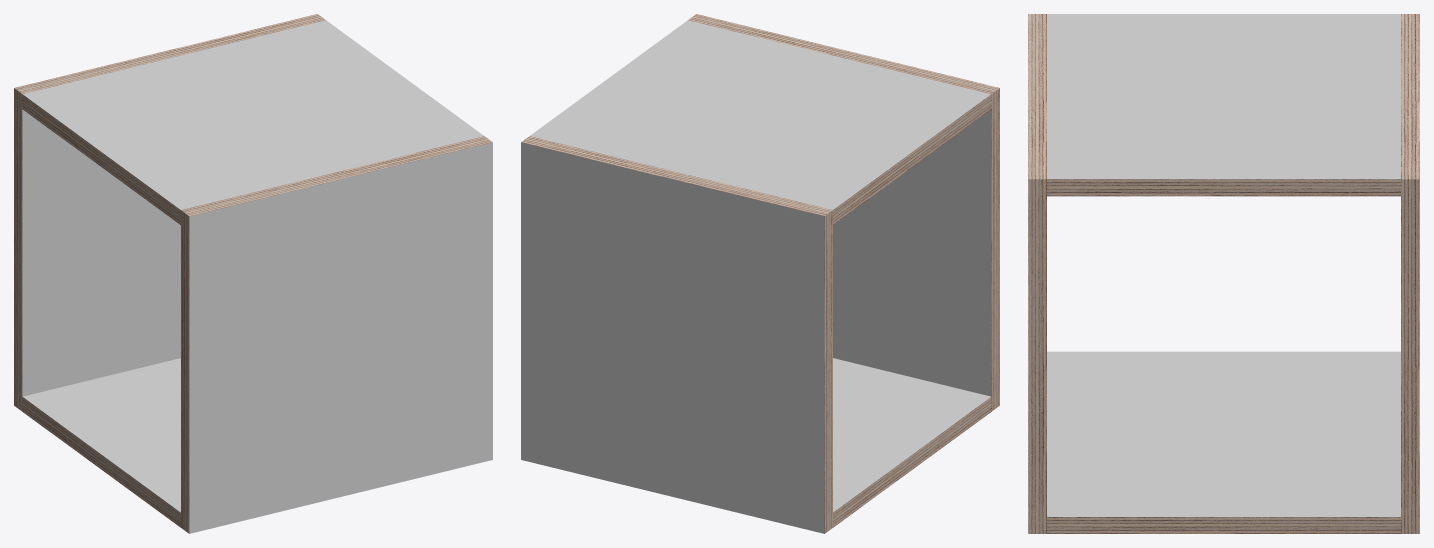
File: Open Shelf.fbx
The picture shows the model from 3 angles, left to right: view 1: azimuth 30°, elevation 25°; view 2: azimuth 150°, elevation 25°; view 3: azimuth 270°, elevation 25°; orthographic projection. The views are drawn at different scales.
Visible parts, largest first — view 1: Open Shelf TL, Open Shelf BL, Open Shelf L, Open Shelf TR, Open Shelf BR, Open Shelf T, Open Shelf R, Open Shelf B; view 2: Open Shelf TR, Open Shelf BR, Open Shelf R, Open Shelf TL, Open Shelf BL, Open Shelf T, Open Shelf L, Open Shelf B; view 3: Open Shelf TL, Open Shelf TR, Open Shelf B, Open Shelf T, Open Shelf BL, Open Shelf BR, Open Shelf L, Open Shelf R.
Boxes of the visible parts, bbox=[...] form: Open Shelf TL: bbox=[131, 99, 492, 321]; Open Shelf BL: bbox=[131, 354, 492, 533]; Open Shelf L: bbox=[181, 248, 492, 427]; Open Shelf TR: bbox=[14, 14, 375, 199]; Open Shelf BR: bbox=[14, 267, 180, 448]; Open Shelf T: bbox=[72, 57, 433, 188]; Open Shelf R: bbox=[14, 177, 180, 305]; Open Shelf B: bbox=[72, 407, 180, 490]; Open Shelf TR: bbox=[521, 99, 882, 321]; Open Shelf BR: bbox=[521, 354, 882, 533]; Open Shelf R: bbox=[521, 248, 832, 427]; Open Shelf TL: bbox=[638, 14, 999, 199]; Open Shelf BL: bbox=[833, 267, 999, 448]; Open Shelf T: bbox=[580, 57, 941, 188]; Open Shelf L: bbox=[833, 177, 999, 305]; Open Shelf B: bbox=[833, 407, 941, 490]; Open Shelf TL: bbox=[1028, 14, 1158, 297]; Open Shelf TR: bbox=[1289, 14, 1419, 297]; Open Shelf B: bbox=[1158, 351, 1289, 533]; Open Shelf T: bbox=[1158, 14, 1289, 196]; Open Shelf BL: bbox=[1028, 351, 1158, 533]; Open Shelf BR: bbox=[1289, 351, 1419, 533]; Open Shelf L: bbox=[1028, 297, 1046, 415]; Open Shelf R: bbox=[1401, 297, 1419, 415].
Bounding box in the file's own units: 40 × 40.01 × 40.
